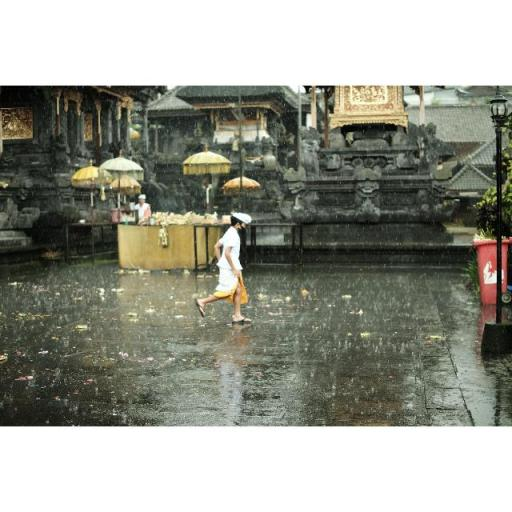Running: (188, 203, 265, 327)
